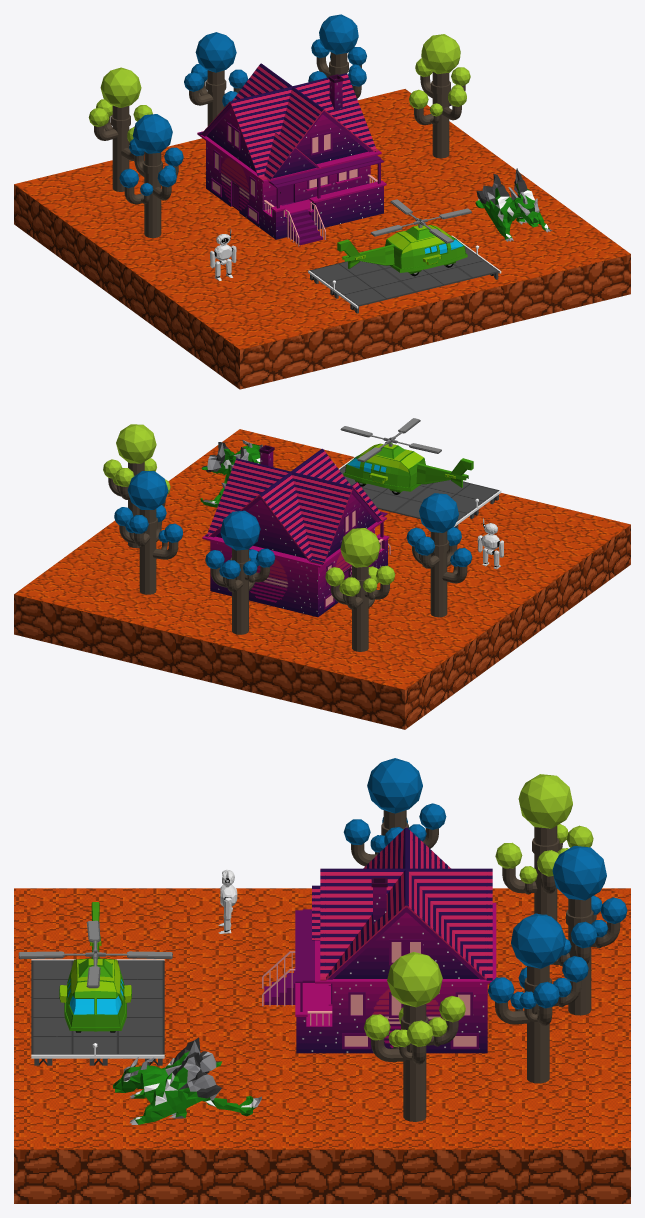
3 views of the same model, one above another, from view 1: azimuth 30°, elevation 25°; view 2: azimuth 150°, elevation 25°; view 3: azimuth 270°, elevation 25° (orthographic). The views are drawn at different scales.
Visible parts, largest first — view 1: Cube.001, Cube.156, VEHICLES_HELICOPTER, ANIMAL_DRAGON, OBJRANDOM_PLATZEEBOT; view 2: Cube.001, Cube.156, VEHICLES_HELICOPTER, ANIMAL_DRAGON, OBJRANDOM_PLATZEEBOT; view 3: Cube.001, Cube.156, VEHICLES_HELICOPTER, ANIMAL_DRAGON, OBJRANDOM_PLATZEEBOT.
Part boxes in pixels (left/top/right/bottom): Cube.001: left=14, top=14, right=630, bottom=389; Cube.156: left=197, top=63, right=386, bottom=246; VEHICLES_HELICOPTER: left=337, top=199, right=471, bottom=276; ANIMAL_DRAGON: left=475, top=168, right=552, bottom=241; OBJRANDOM_PLATZEEBOT: left=210, top=229, right=236, bottom=280; Cube.001: left=14, top=424, right=630, bottom=729; Cube.156: left=202, top=445, right=390, bottom=617; VEHICLES_HELICOPTER: left=340, top=418, right=473, bottom=494; ANIMAL_DRAGON: left=200, top=440, right=262, bottom=507; OBJRANDOM_PLATZEEBOT: left=477, top=518, right=503, bottom=569; Cube.001: left=14, top=758, right=630, bottom=1203; Cube.156: left=262, top=827, right=496, bottom=1053; VEHICLES_HELICOPTER: left=18, top=902, right=172, bottom=1032; ANIMAL_DRAGON: left=113, top=1037, right=261, bottom=1124; OBJRANDOM_PLATZEEBOT: left=218, top=869, right=237, bottom=933.
Size of the model in its own units: 4000 by 1687 by 4000.
Materials: 34 (7 with a texture image).
